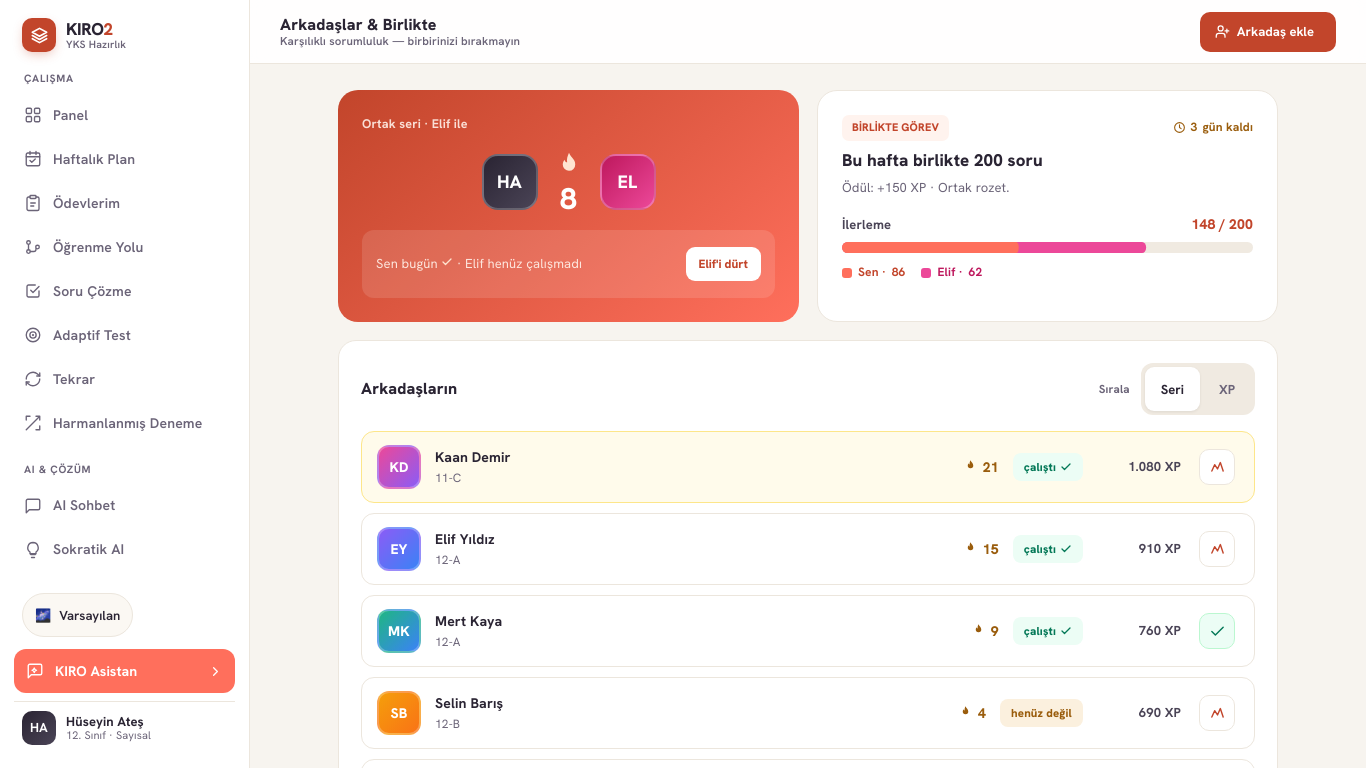
Test: ArkadasSerisiPage › dürtme durum-barı: "Elif'i dürt" → "Gönderildi" + aria-pressed + devre dışı (sunucu-otorite)
The width and height of the screenshot is (1366, 768).
Step 1. Click the button with aria-label "Elif arkadaşını dürt" → (723, 264), box [686,242,761,286]
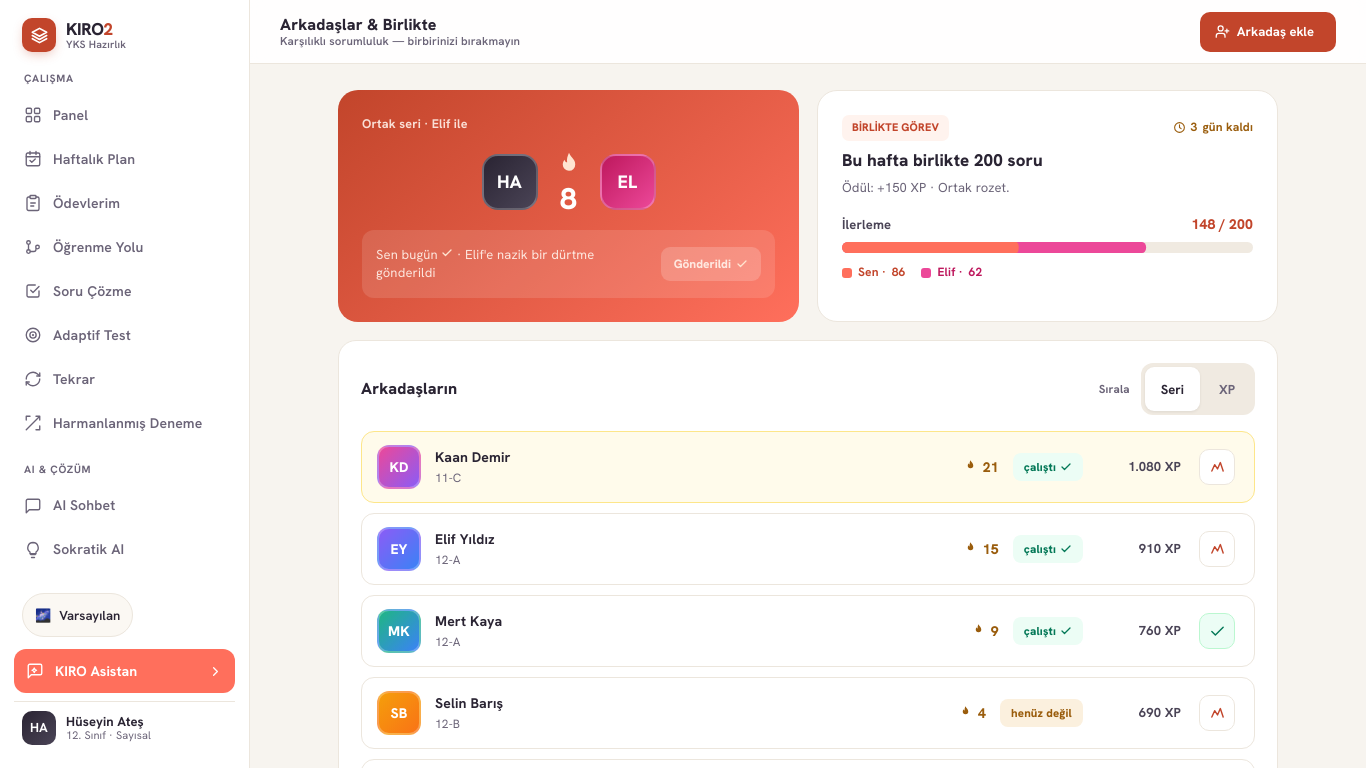
Check: the button with aria-label "Dürtme gönderildi" is disabled, box [661,242,761,286]
